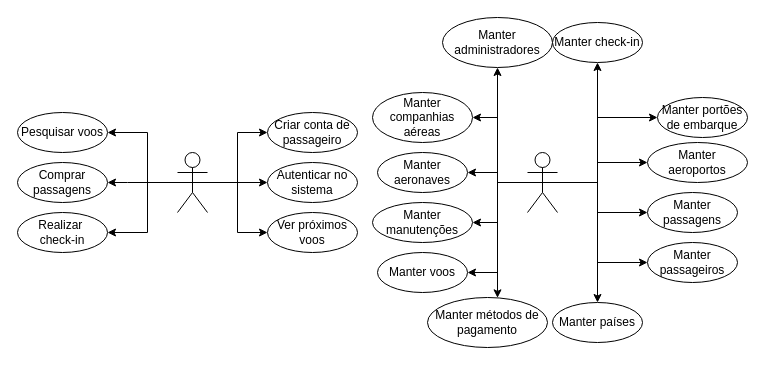
Some shapes in this 765 by 365 pixel diagram are drawn without their labels. The shapes that lost their labels are listed below. From the top down, each one's centre as x and y in pixels, then its label:
(x=192, y=182): Passageiro
(x=542, y=182): Administrador
